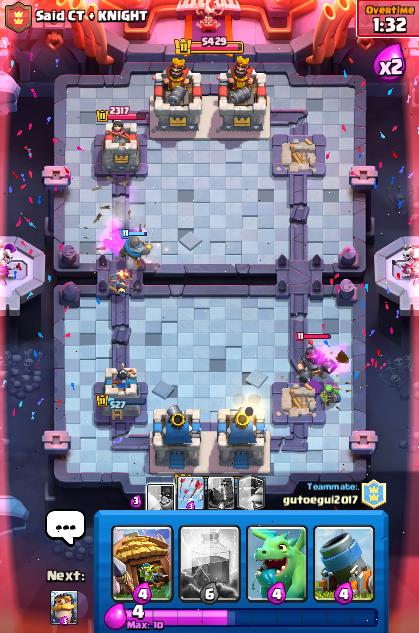EKingTower: (150, 57, 201, 131), (217, 57, 268, 130)
EMegaKnight: (297, 340, 337, 382)
EnemyPrincessTower: (103, 122, 138, 173)
OKnight: (120, 234, 151, 266)
OPrincess: (109, 270, 131, 296)
OSpearGoblin: (320, 384, 340, 406)
OwnKingTower: (217, 406, 269, 472), (150, 405, 198, 472)
OwnPrincessTower: (95, 365, 146, 421)
TowerDown: (272, 381, 324, 424), (273, 134, 325, 176)
